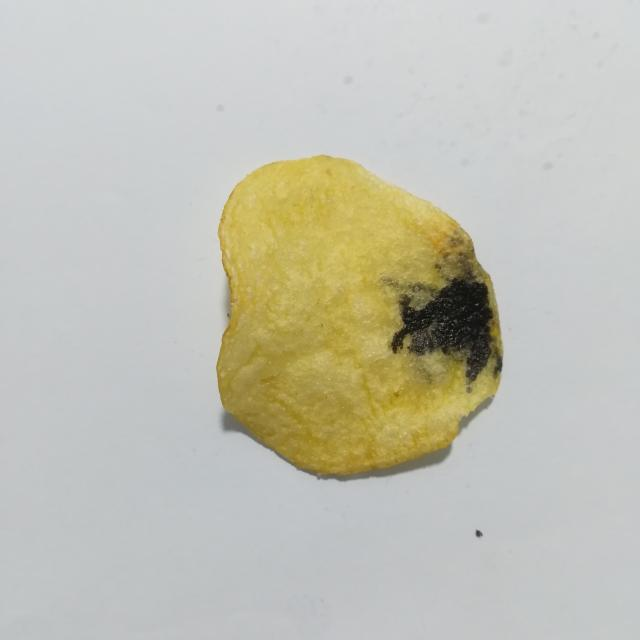chip: (217, 156, 503, 475)
damaged: (391, 278, 502, 383)
semi-damaged: (380, 223, 485, 309)
